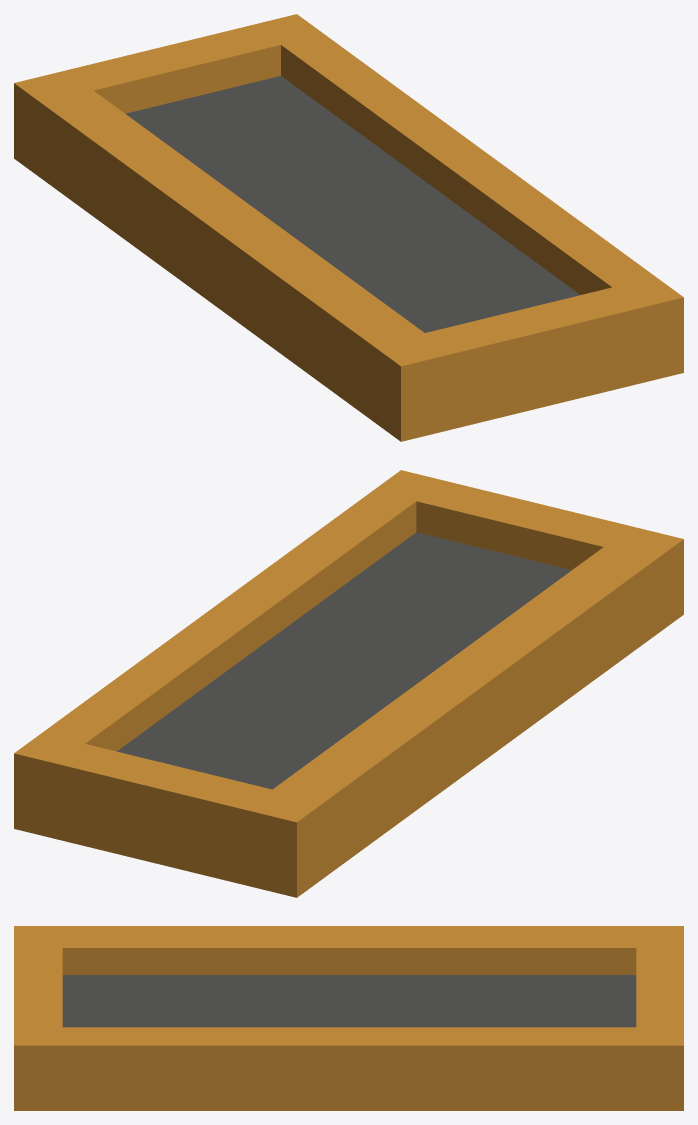
The model's file is vida.fbx.
3 renders of one model, top to bottom at view 1: azimuth 30°, elevation 25°; view 2: azimuth 150°, elevation 25°; view 3: azimuth 270°, elevation 25°, orthographic. The views are drawn at different scales.
Visible parts, largest first — view 1: Cube; view 2: Cube; view 3: Cube.
Part boxes in pixels (<box>): Cube: <box>14,14,683,441</box>; Cube: <box>14,470,683,897</box>; Cube: <box>14,926,683,1110</box>.
Size of the model in its own units: 84.4 by 21.52 by 200.
